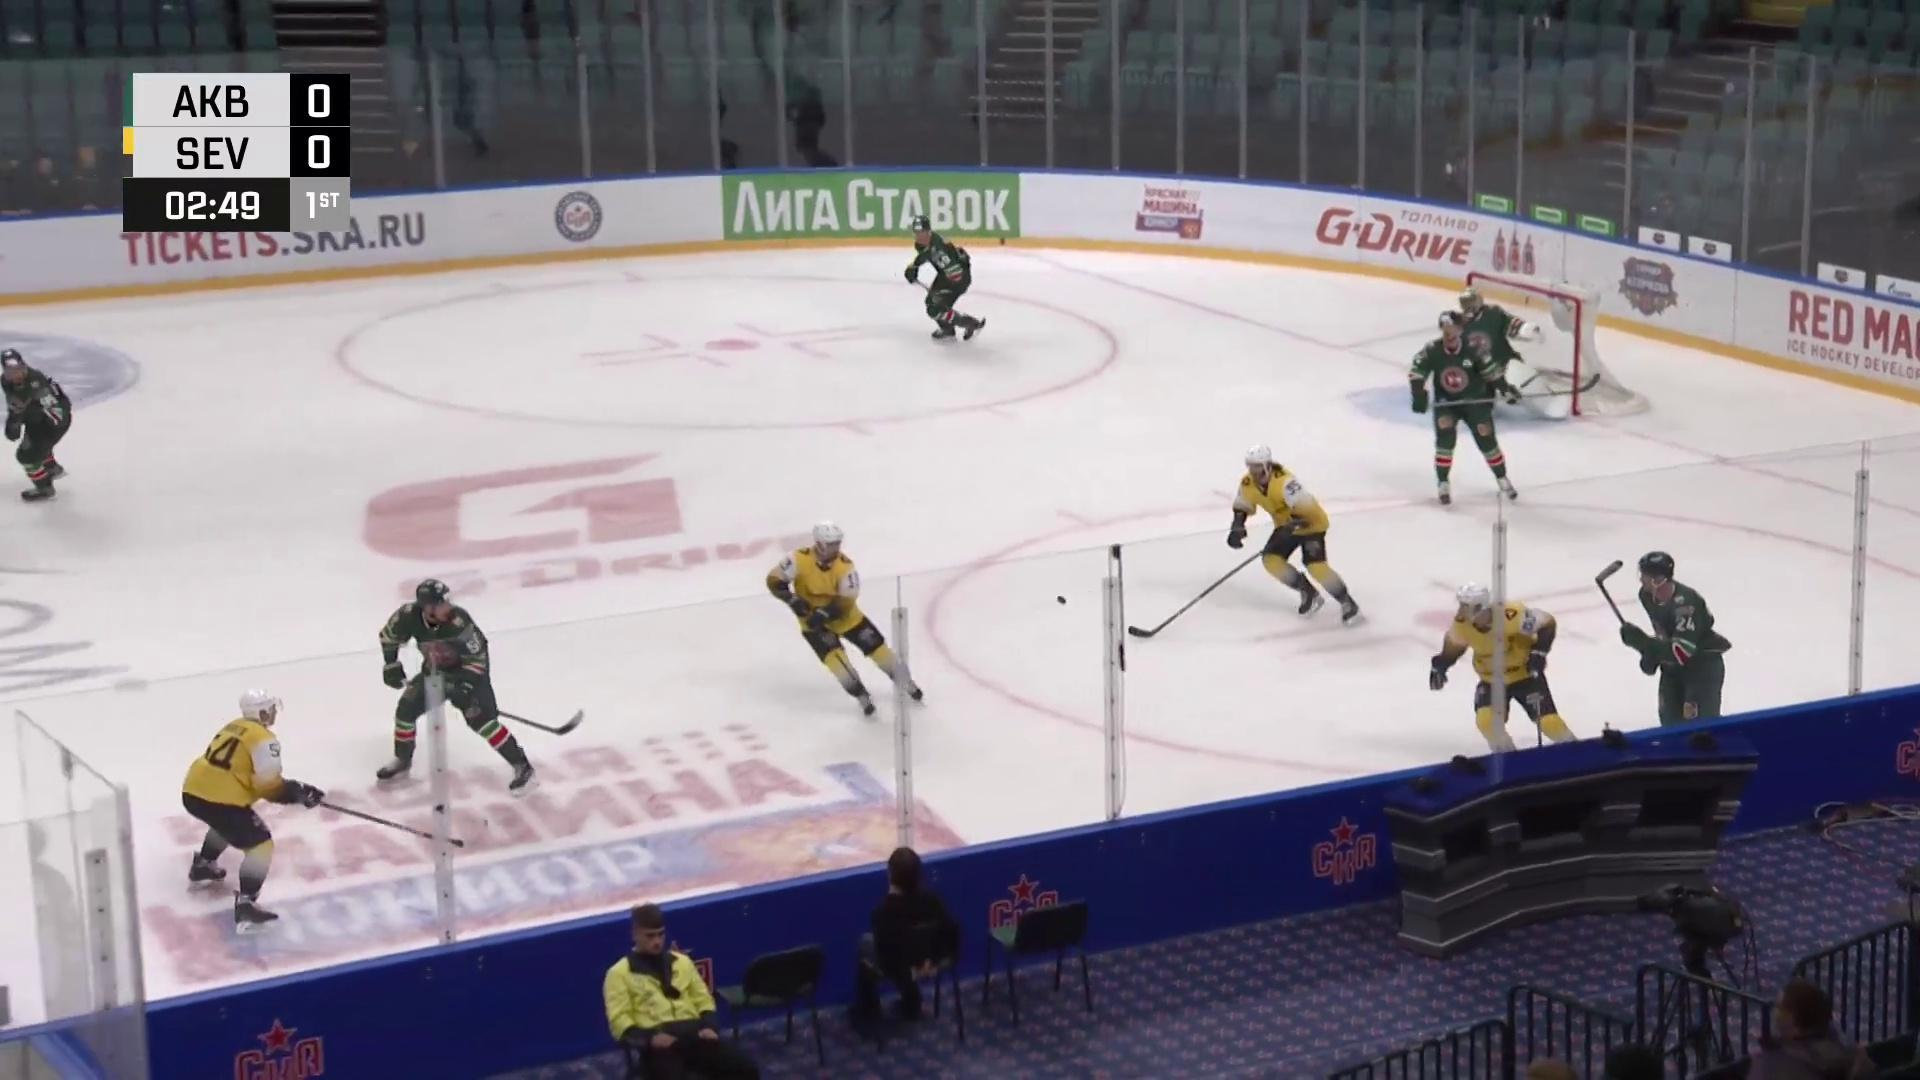ball: (1055, 595, 1069, 607)
